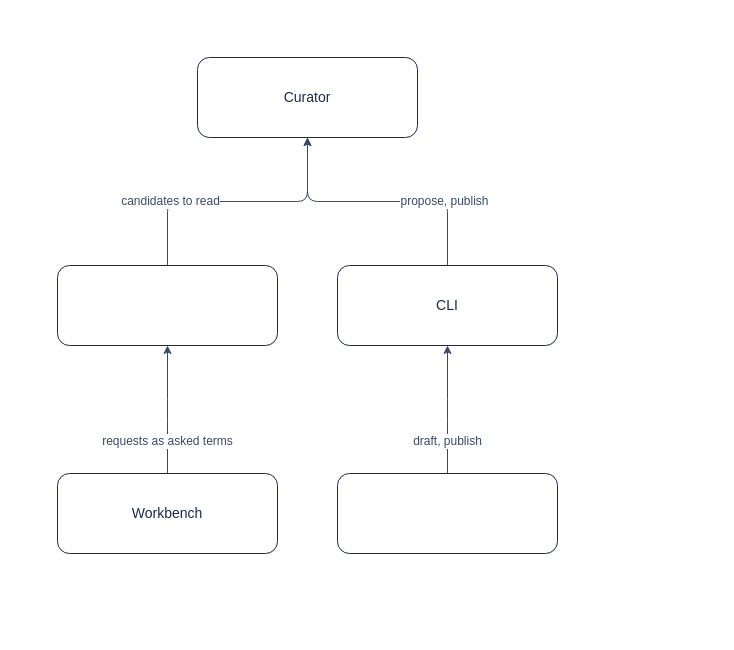
Some shapes in this 734 by 650 pixel diagram are drawn without their labels. Here are the shapes that lost their labels. From the top down, the box of each, then its label:
(56, 264, 278, 346): Candidate register
(336, 472, 558, 554): Ontology store
